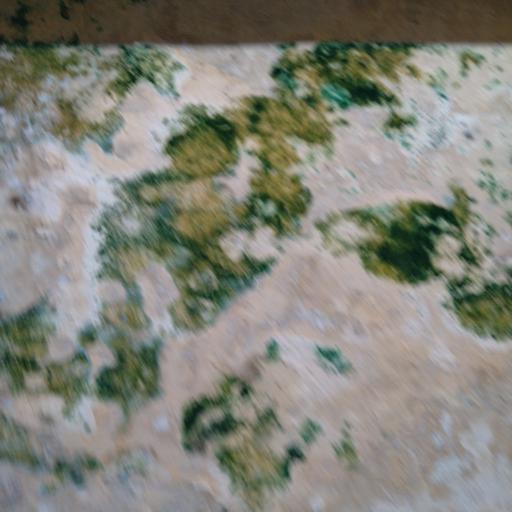algae: (0, 0, 374, 416)
